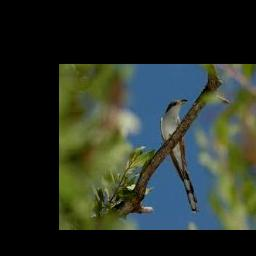Cuckoo: (160, 99, 198, 212)
